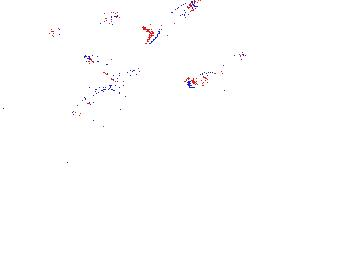glassfish: (1, 86, 80, 137)
red belly glassfish: (183, 65, 226, 90), (223, 50, 248, 64)
redtail glassfish: (46, 10, 122, 47), (143, 1, 200, 45), (72, 83, 118, 118), (82, 53, 139, 80)
